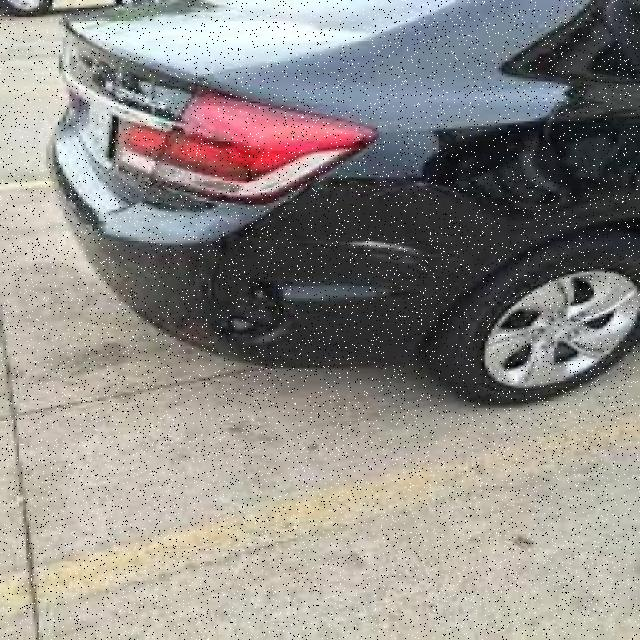damage: (315, 221, 448, 277), (201, 281, 287, 351)
